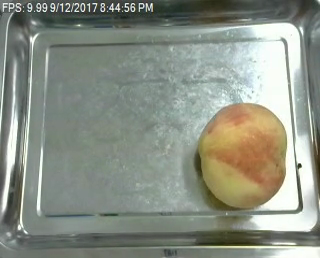Peach: (197, 100, 287, 209)
